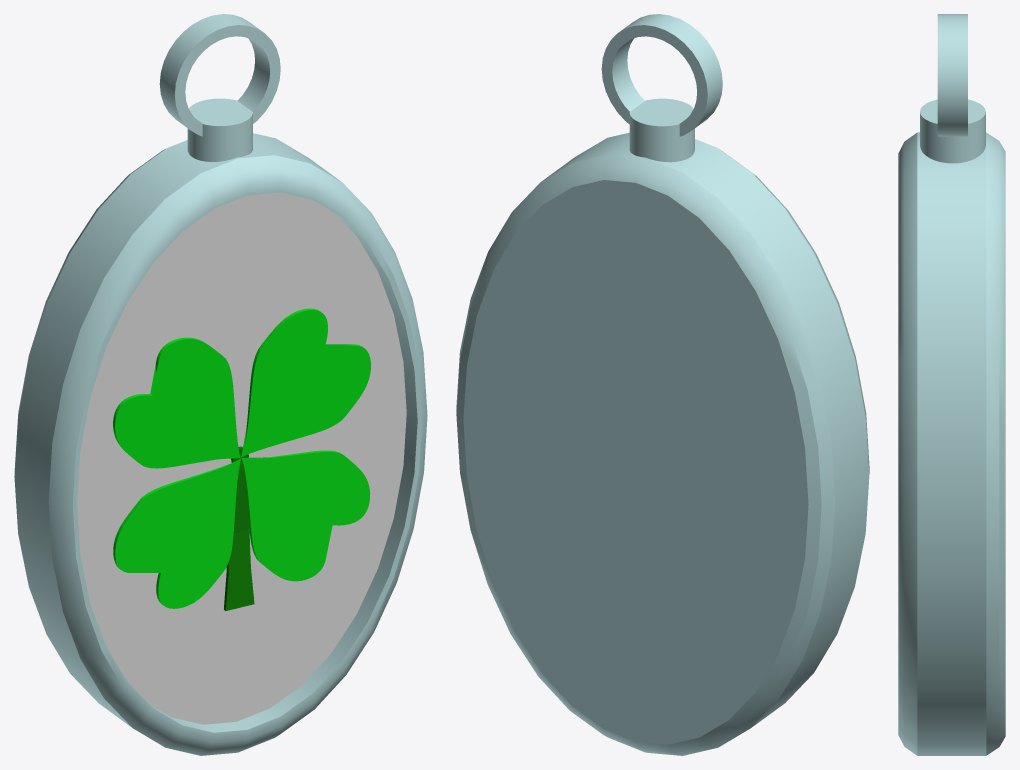
The model's file is LuckyAmulet.fbx.
3 views of the same model, side by side, from view 1: azimuth 30°, elevation 25°; view 2: azimuth 150°, elevation 25°; view 3: azimuth 270°, elevation 25° (orthographic).
Visible parts, largest first — view 1: LuckyAmulet; view 2: LuckyAmulet; view 3: LuckyAmulet.
Part boxes in pixels (bbox=[...]): LuckyAmulet: bbox=[14, 14, 427, 755]; LuckyAmulet: bbox=[456, 14, 869, 755]; LuckyAmulet: bbox=[898, 14, 1005, 755].
Bounding box in the file's own units: 527 × 956 × 129.
